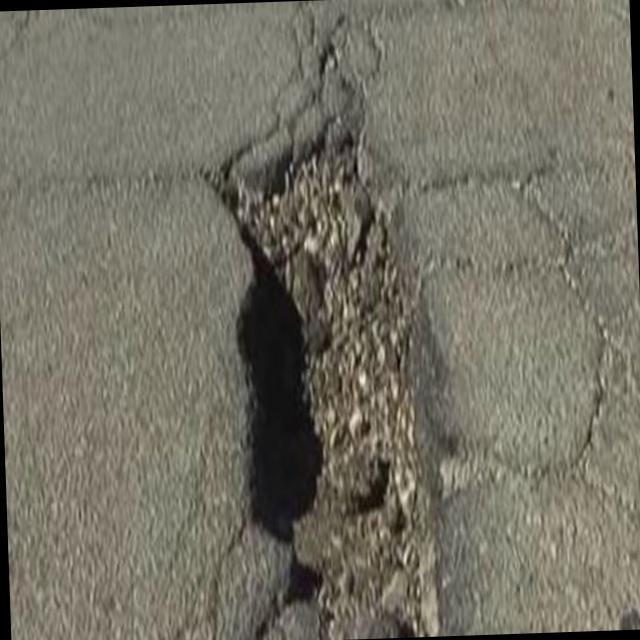Pothole: (216, 134, 434, 638)
